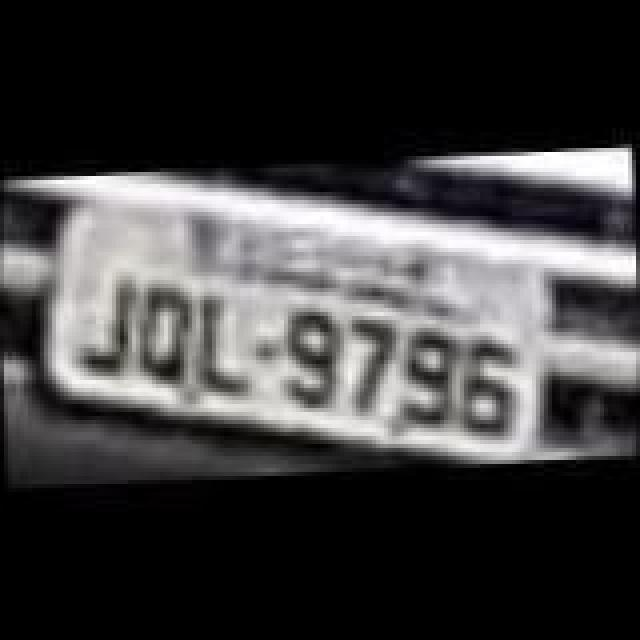6: (450, 332, 522, 440)
7: (342, 312, 410, 424)
9: (274, 306, 350, 414), (398, 322, 466, 434)
J: (70, 270, 138, 378)
L: (188, 284, 260, 400)
O: (128, 280, 200, 388)
